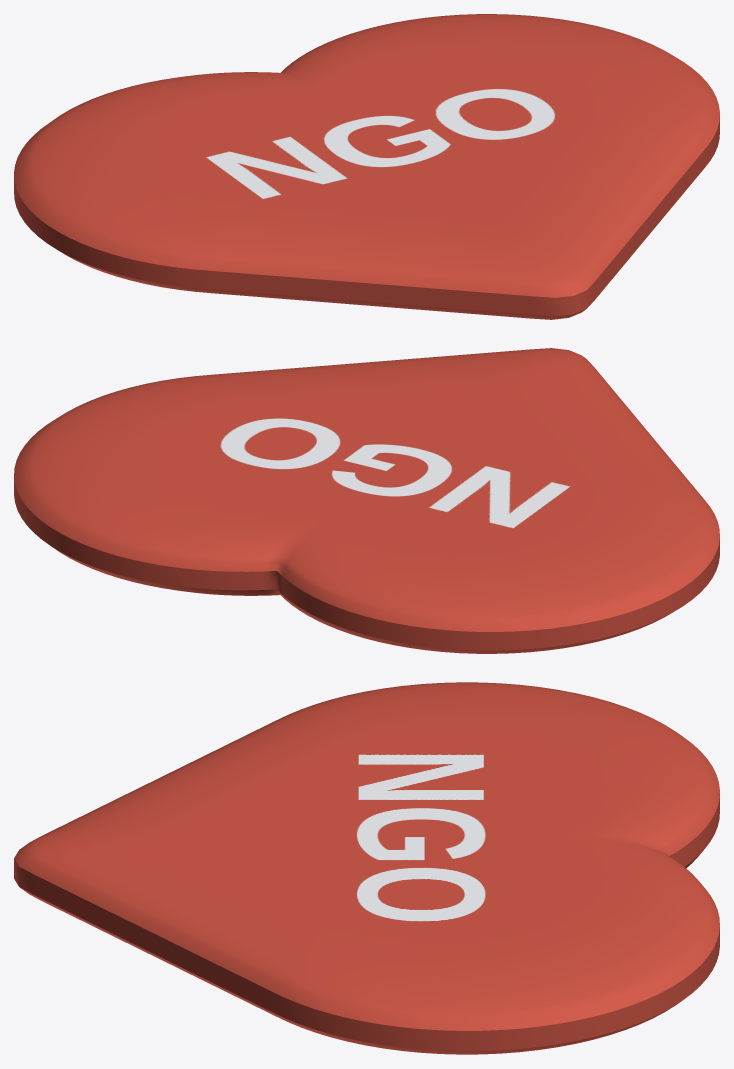
Rendered from ngo-heart-badge.glb.
3 renders of one model, top to bottom at view 1: azimuth 30°, elevation 25°; view 2: azimuth 150°, elevation 25°; view 3: azimuth 270°, elevation 25°, orthographic. The views are drawn at different scales.
Parts seen in each view (by area): view 1: NGO_Heart_Badge; view 2: NGO_Heart_Badge; view 3: NGO_Heart_Badge.
Part boxes in pixels (x1,y1,x2,y2): NGO_Heart_Badge: [14, 14, 719, 319]; NGO_Heart_Badge: [14, 348, 719, 653]; NGO_Heart_Badge: [14, 682, 719, 1054].
Bounding box in the file's own units: 4 × 0.34 × 3.46.
2 materials, 2 textured.
